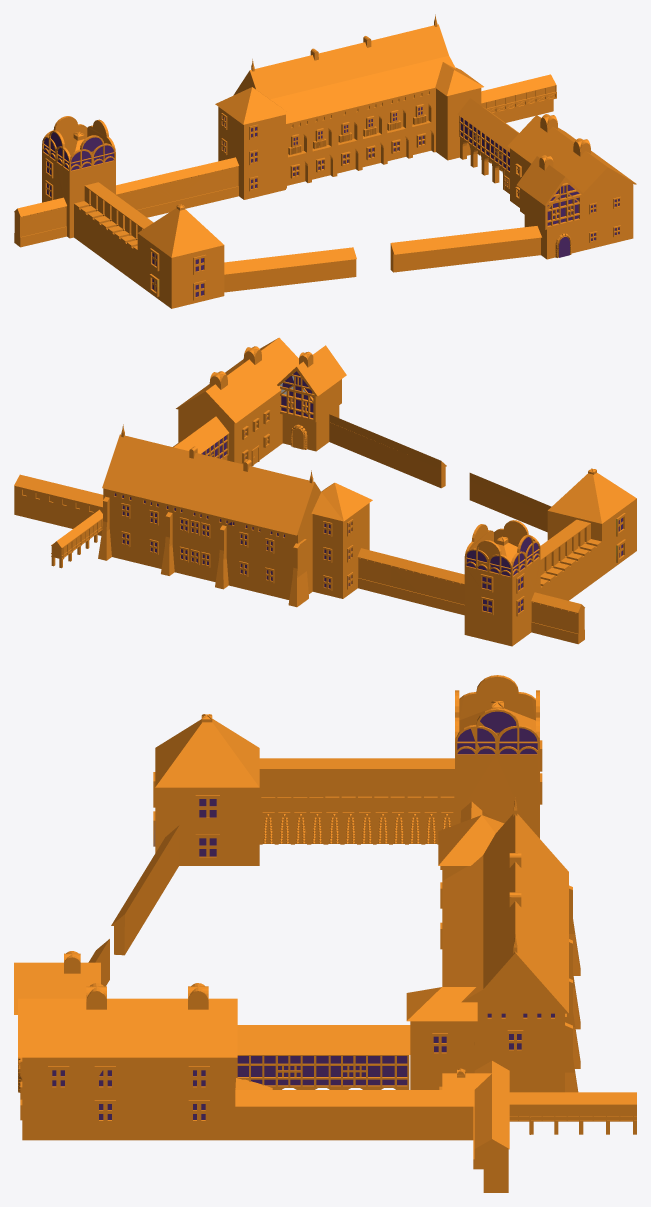
Rendered from zamek.fbx.
3 views of the same model, one above another, from view 1: azimuth 30°, elevation 25°; view 2: azimuth 150°, elevation 25°; view 3: azimuth 270°, elevation 25° (orthographic). The views are drawn at different scales.
Visible parts, largest first — view 1: Zamek_zamek_bez_bramy; view 2: Zamek_zamek_bez_bramy; view 3: Zamek_zamek_bez_bramy.
Boxes of the visible parts, left/top/right/bottom form: Zamek_zamek_bez_bramy: left=14, top=14, right=636, bottom=308; Zamek_zamek_bez_bramy: left=14, top=337, right=636, bottom=646; Zamek_zamek_bez_bramy: left=14, top=675, right=636, bottom=1192.
Size of the model in its own units: 43.92 by 9.04 by 28.59.
Materials: 1 (1 with a texture image).
